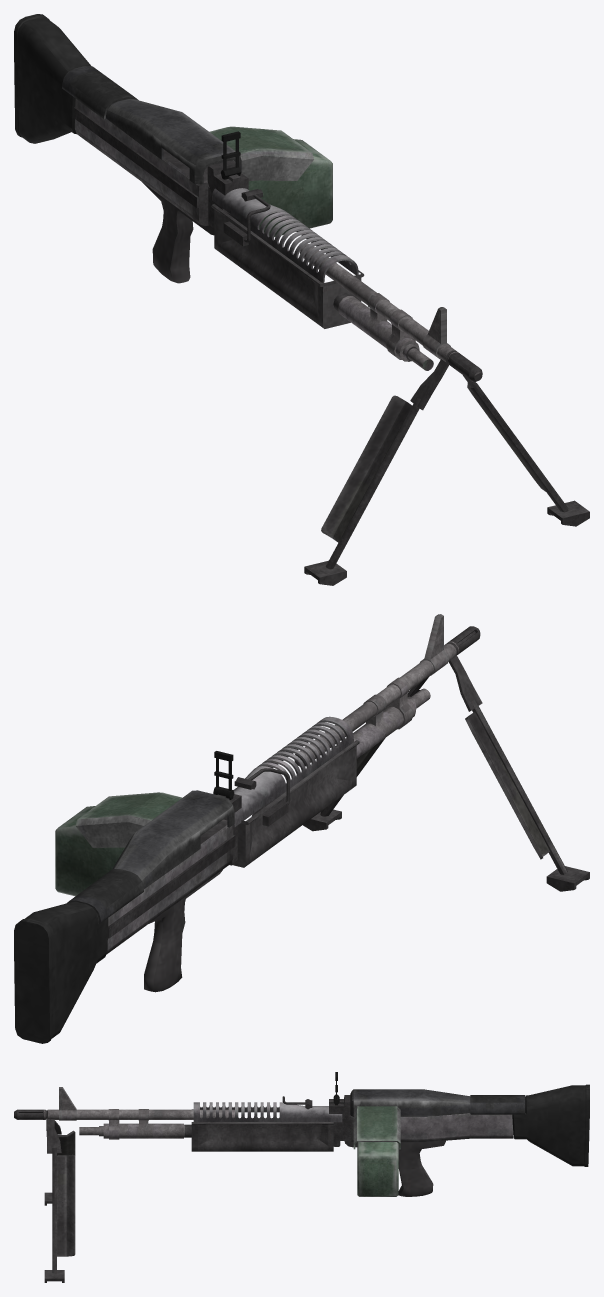
Rendered from mitrailleuse.glb.
3 views of the same model, one above another, from view 1: azimuth 30°, elevation 25°; view 2: azimuth 150°, elevation 25°; view 3: azimuth 270°, elevation 25° (orthographic). The views are drawn at different scales.
Visible parts, largest first — view 1: Cylinder.004; view 2: Cylinder.004; view 3: Cylinder.004.
Boxes of the visible parts, x1,y1,x2,y2 form: Cylinder.004: [14, 14, 589, 585]; Cylinder.004: [14, 614, 589, 1043]; Cylinder.004: [14, 1072, 589, 1282].
Bounding box in the file's own units: 0.531 × 0.4849 × 1.5.
Materials: 1 (1 with a texture image).
